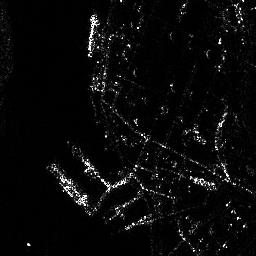ship: (46, 163, 90, 207), (85, 12, 100, 58)
